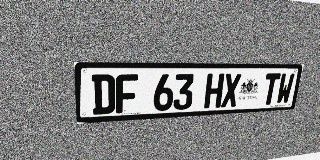3: (173, 74, 194, 110)
6: (153, 74, 175, 111)
D: (92, 74, 115, 115)
F: (116, 74, 138, 113)
H: (204, 74, 225, 108)
T: (261, 73, 281, 105)
W: (275, 73, 295, 104)
X: (221, 73, 241, 107)
